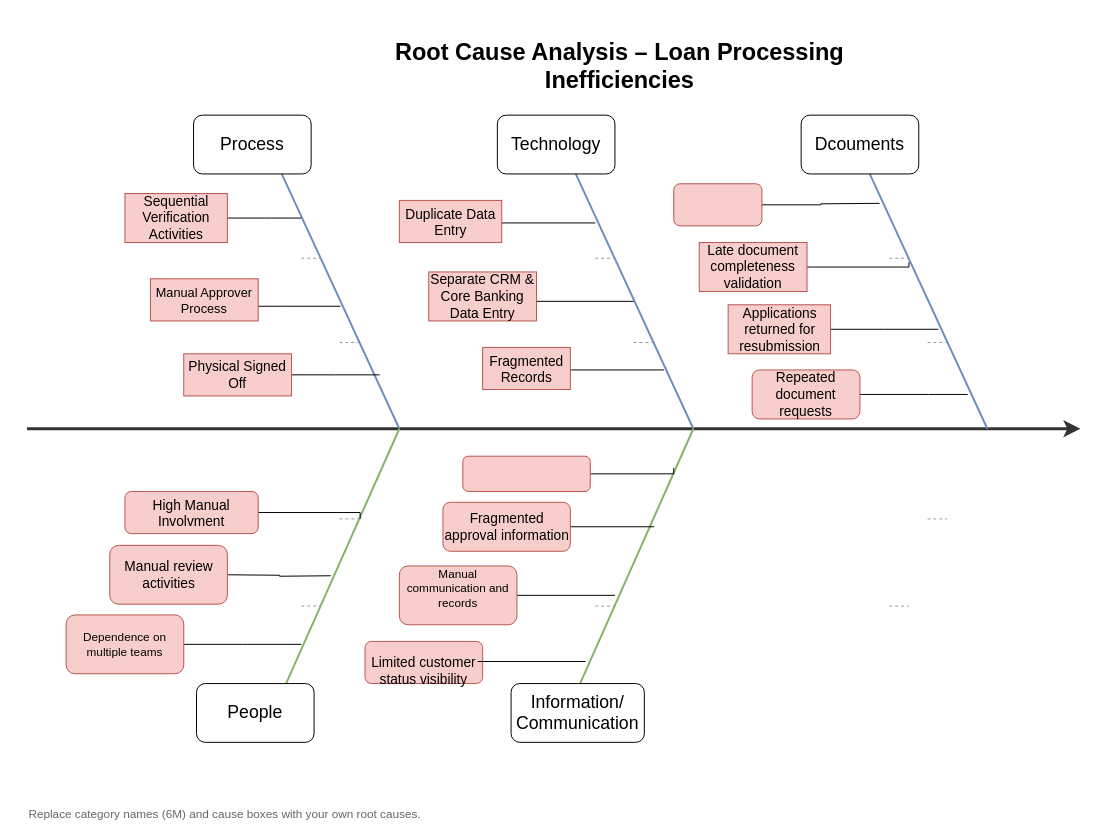
Some shapes in this 1108 by 838 pixel diagram are drawn without their labels. Here are the shapes that lost their labels. From the top down, the centre of each, then its label:
[717,204]: Missing Document
[526,473]: Limited application status updates
